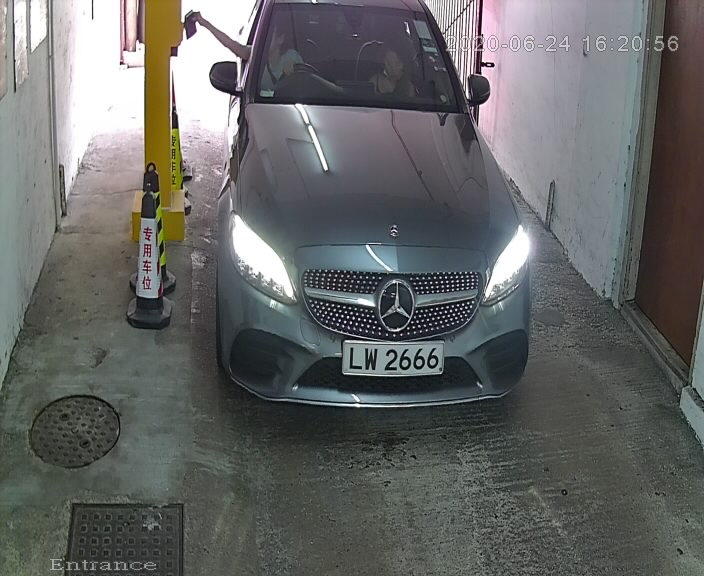Car: (202, 1, 540, 431)
License Plate: (337, 337, 454, 384)
